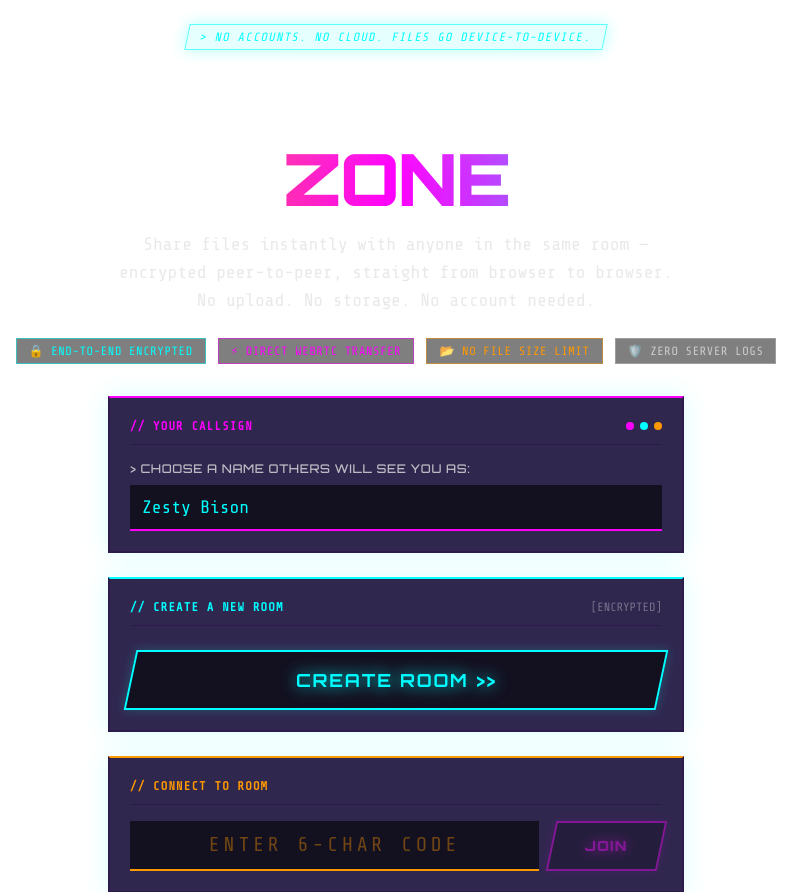
Test: Landing › Join stays disabled until a 6-char code is entered
Expected: the button "JOIN" is disabled, [546,821,667,871]
Type "ABC234" into the field named "room code" at (335, 846), box [130,821,539,871]
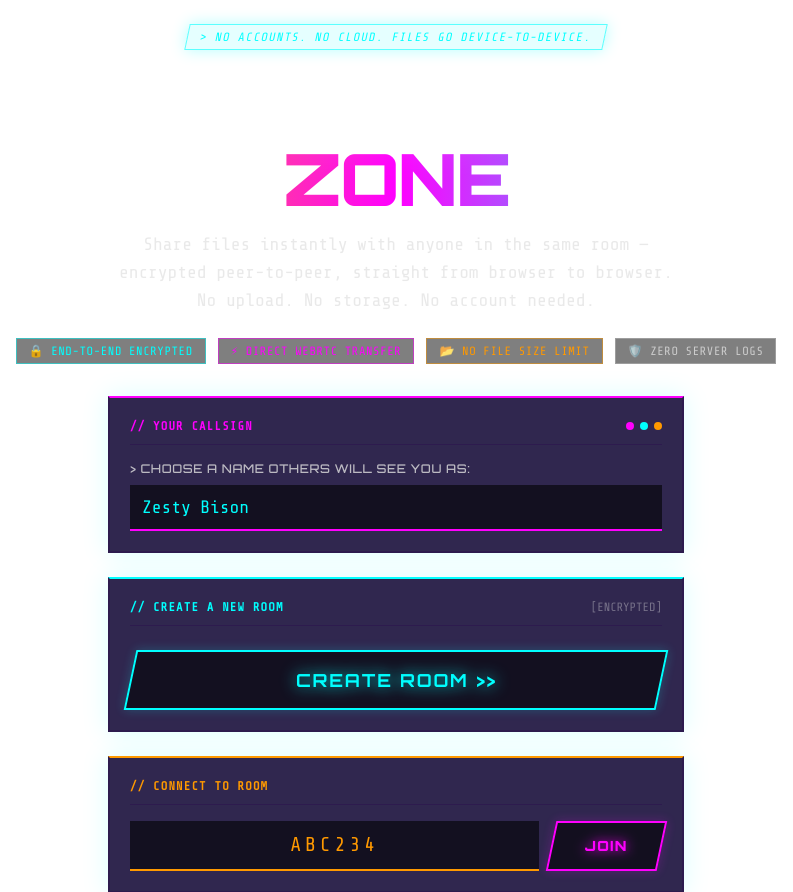
Result: the button "JOIN" is enabled at [546,821,667,871]
